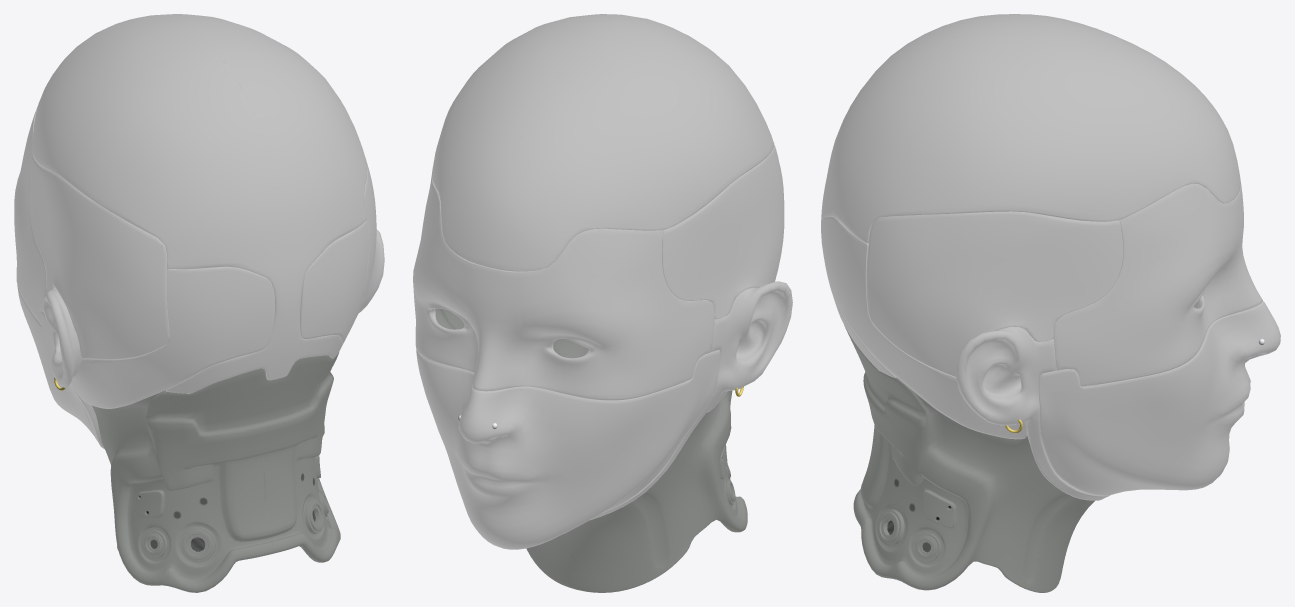
The model's file is jev_cyborg.web.glb.
3 renders of one model, left to right at view 1: azimuth 30°, elevation 25°; view 2: azimuth 150°, elevation 25°; view 3: azimuth 270°, elevation 25°, orthographic. The views are drawn at different scales.
Parts seen in each view (by area): view 1: Top_low, Back_low, side_low, BottomSide_low, BottomSideRight_low, Ear_low, Eyes_low, Mouth_low, sideRight_low; view 2: Top_low, Eyes_low, Mouth_low, Back_low, side_low, Ear_low, inside_low; view 3: Top_low, Back_low, sideRight_low, Mouth_low, Eyes_low, Ear_low, BottomSideRight_low.
Part boxes in pixels (bbox=[...]): Top_low: bbox=[32, 14, 366, 393]; Back_low: bbox=[92, 338, 340, 592]; side_low: bbox=[29, 154, 169, 359]; BottomSide_low: bbox=[70, 266, 274, 408]; BottomSideRight_low: bbox=[300, 221, 368, 345]; Ear_low: bbox=[42, 229, 384, 449]; Eyes_low: bbox=[14, 107, 46, 324]; Mouth_low: bbox=[17, 285, 94, 435]; sideRight_low: bbox=[363, 158, 376, 300]; Top_low: bbox=[431, 14, 774, 271]; Eyes_low: bbox=[413, 178, 714, 400]; Mouth_low: bbox=[416, 349, 720, 549]; Back_low: bbox=[526, 390, 747, 592]; side_low: bbox=[662, 145, 784, 319]; Ear_low: bbox=[590, 281, 792, 520]; inside_low: bbox=[435, 308, 588, 358]; Top_low: bbox=[821, 14, 1240, 377]; Back_low: bbox=[844, 216, 1094, 592]; sideRight_low: bbox=[866, 211, 1123, 376]; Mouth_low: bbox=[1038, 301, 1280, 495]; Eyes_low: bbox=[1053, 182, 1262, 386]; Ear_low: bbox=[956, 326, 1109, 500]; BottomSideRight_low: bbox=[822, 216, 1027, 439].
Size of the model in its own units: 0.7925 by 1.22 by 0.9295.
Materials: 4 (1 with a texture image).
